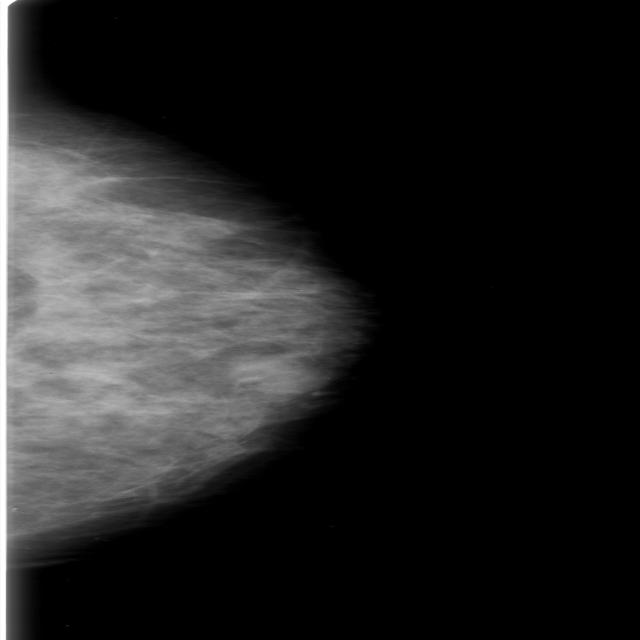normal: (0, 50, 340, 542)
